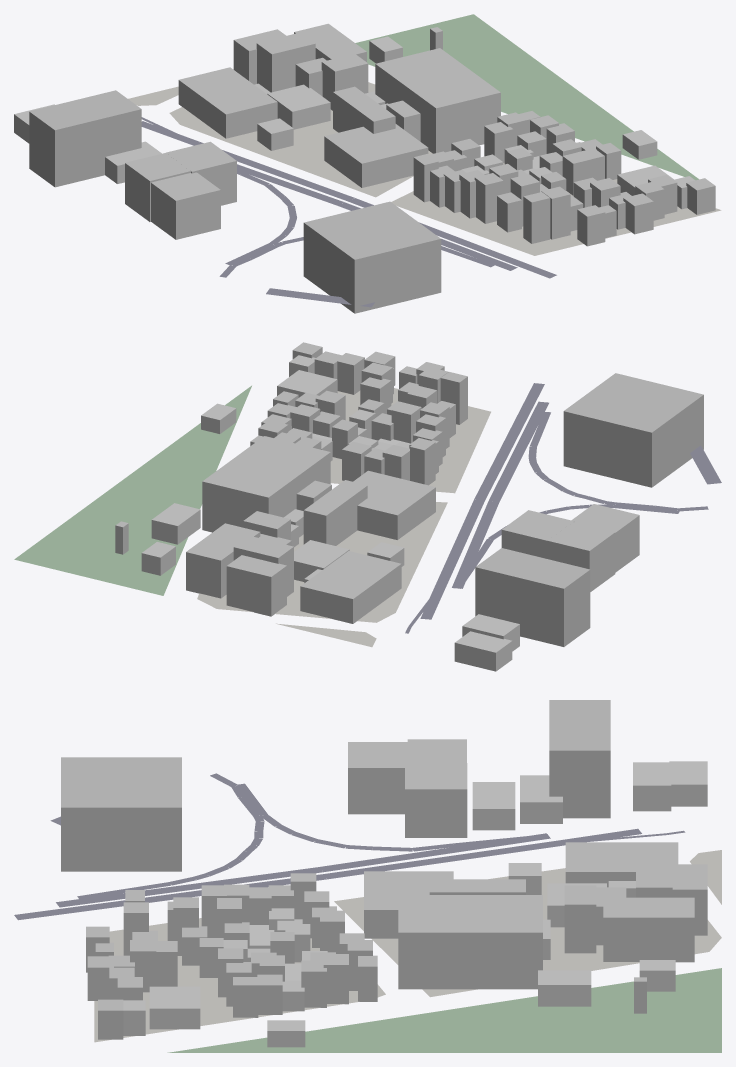
File: 113_84_mid.glb
The picture shows the model from 3 angles, top to bottom: view 1: azimuth 30°, elevation 25°; view 2: azimuth 150°, elevation 25°; view 3: azimuth 270°, elevation 25°; orthographic projection. The views are drawn at different scales.
Size of the model in its own units: 537 by 59.99 by 564.
